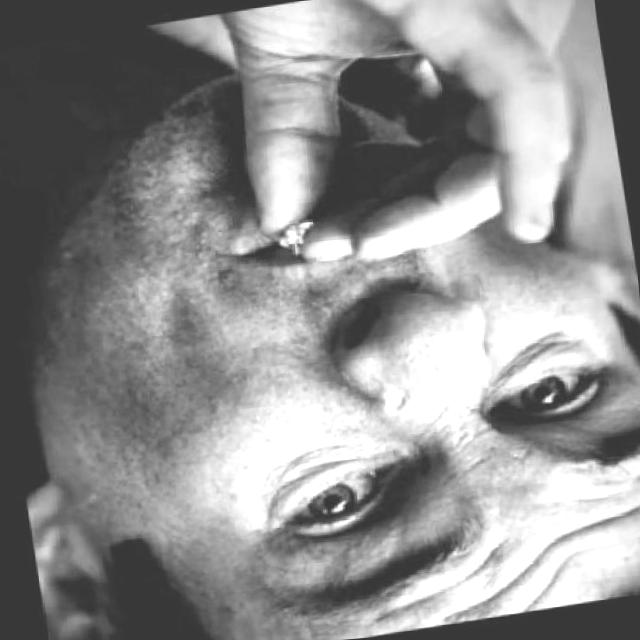smoke: (264, 211, 324, 256)
